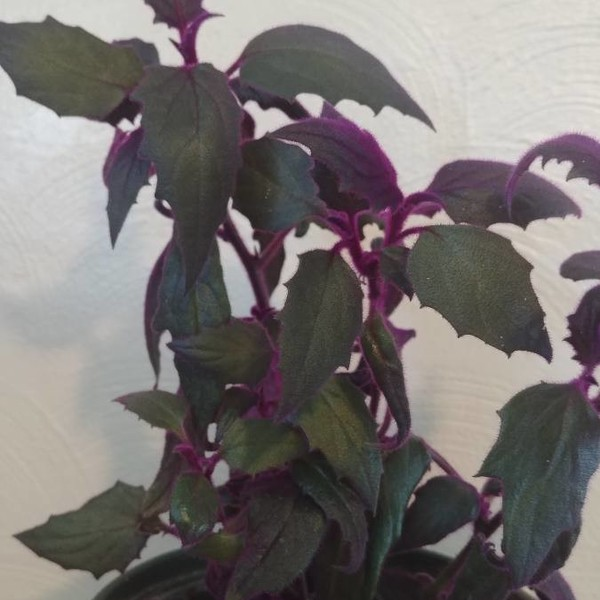obstacle: (61, 26, 556, 589)
